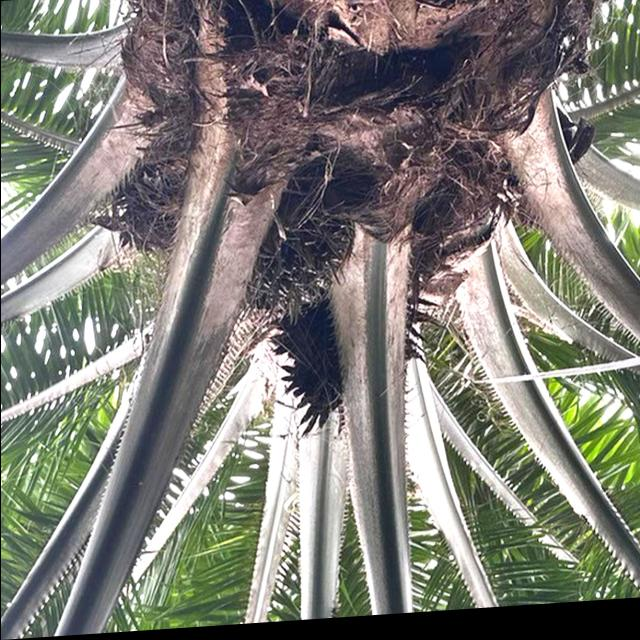unripe: (230, 188, 368, 321)
